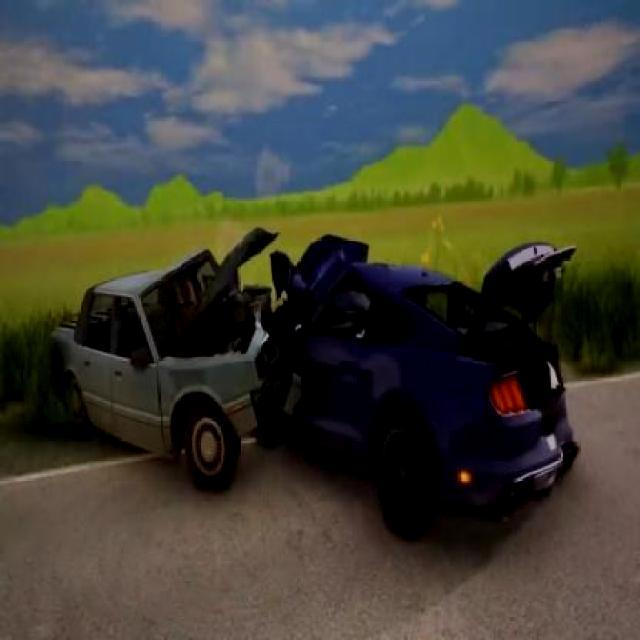accident: (64, 199, 577, 533)
